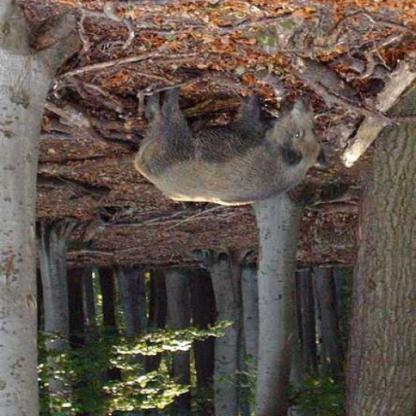boar: (97, 79, 323, 256)
